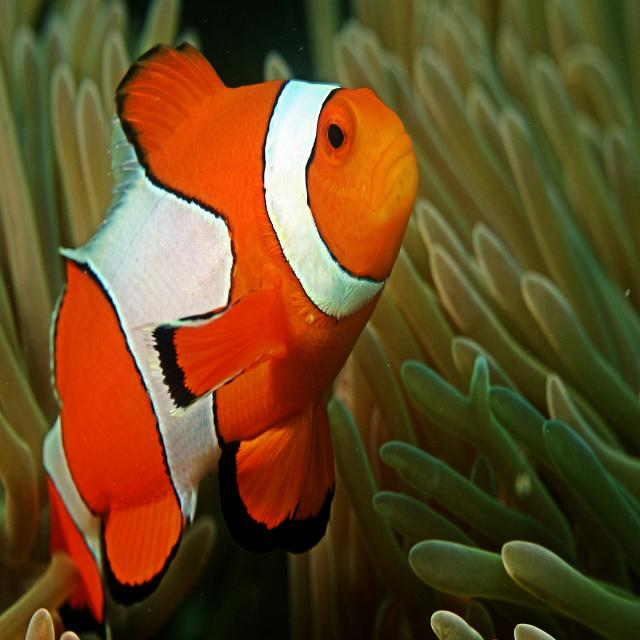ClownFish: (42, 44, 419, 594)
